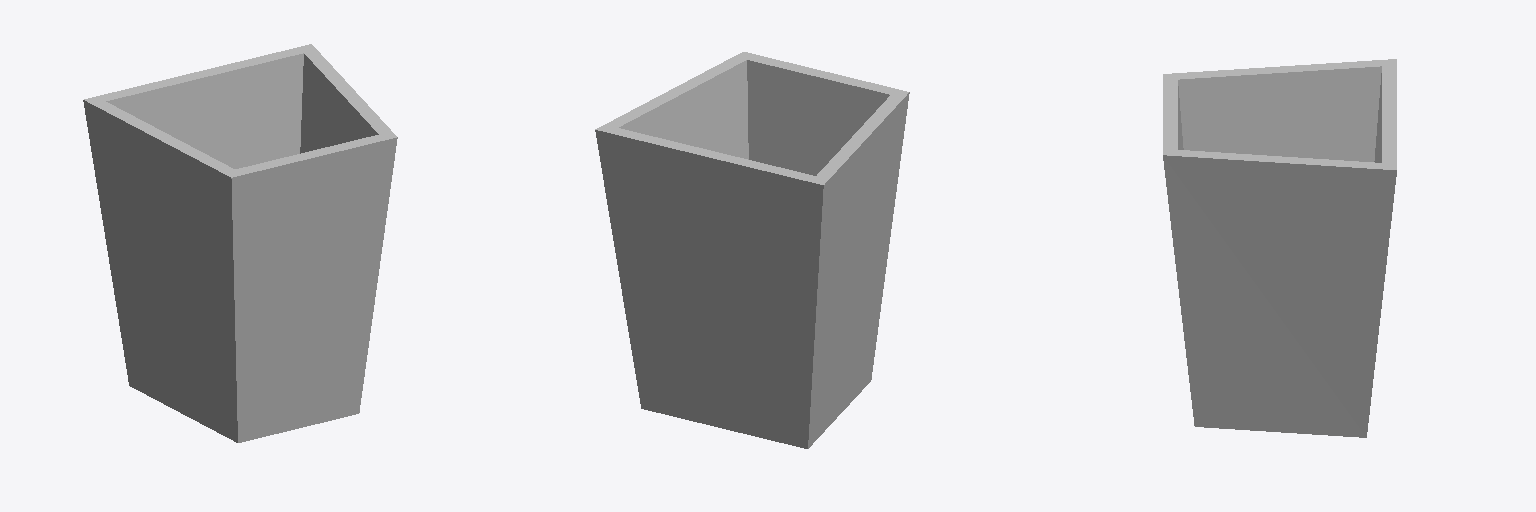
File: TrashBin_Small.obj
The picture shows the model from 3 angles: view 1: azimuth 30°, elevation 25°; view 2: azimuth 150°, elevation 25°; view 3: azimuth 270°, elevation 25°; orthographic projection.
Visible parts, largest first — view 1: TrashBin_Small; view 2: TrashBin_Small; view 3: TrashBin_Small.
Boxes of the visible parts, box(x1,y1,x2,y2) form: TrashBin_Small: box(83, 44, 397, 442); TrashBin_Small: box(595, 52, 909, 448); TrashBin_Small: box(1163, 59, 1396, 437).
Bounding box in the file's own units: 0.3105 × 0.3669 × 0.2758.